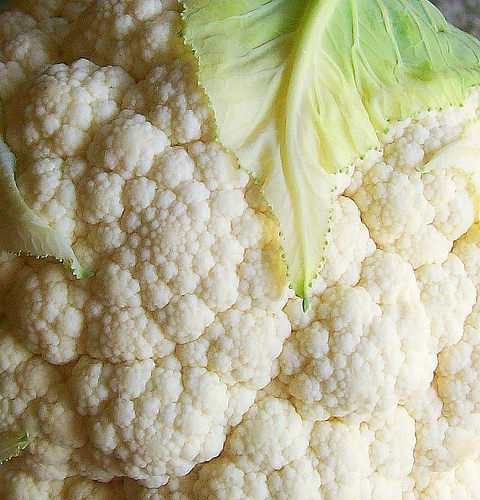cauliflower: (1, 0, 478, 498)
